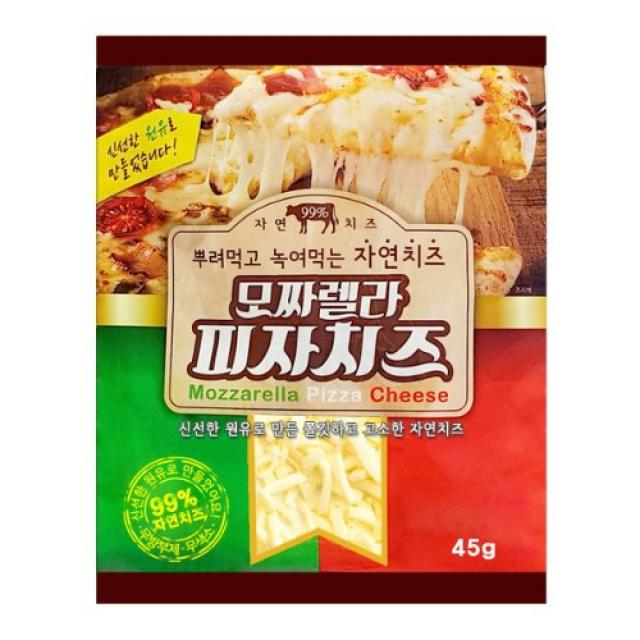cheese: (93, 34, 550, 607)
